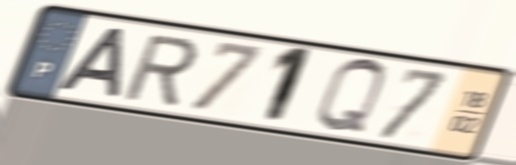1: (263, 45, 315, 131)
7: (186, 38, 267, 115), (376, 66, 453, 142)
A: (52, 24, 129, 101)
Q: (312, 55, 389, 138)
R: (120, 32, 201, 107)
